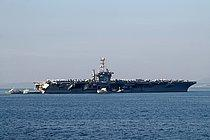MIL_Ship: (35, 56, 199, 94)
